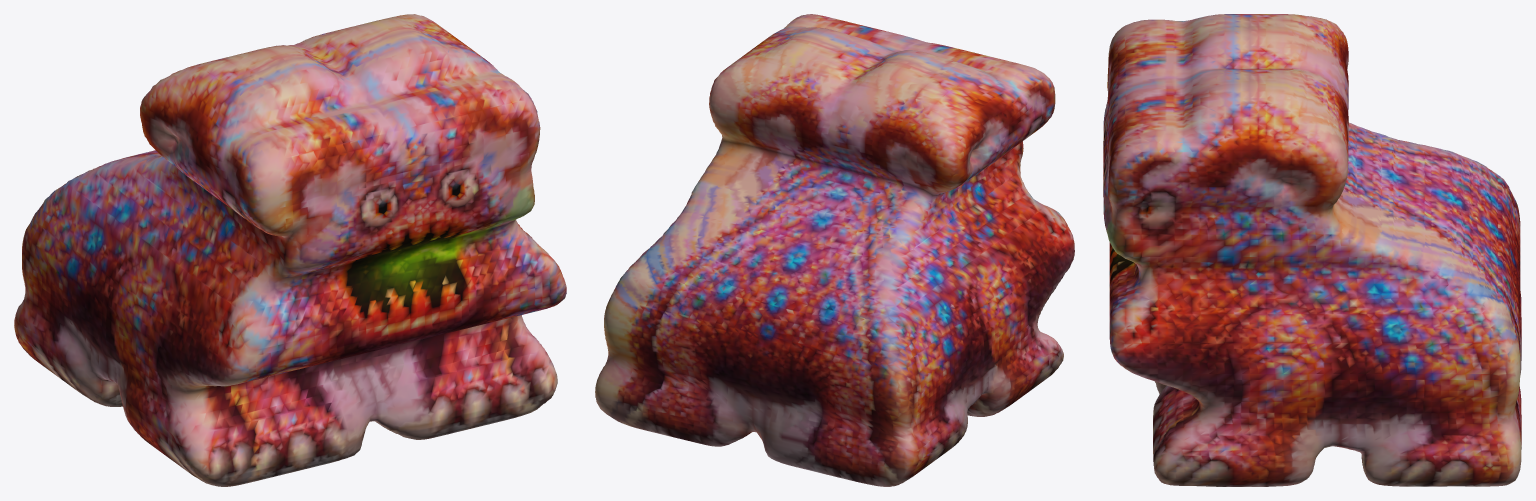
File: 01-gifspuwer-rood.glb
The picture shows the model from 3 angles, left to right: view 1: azimuth 30°, elevation 25°; view 2: azimuth 150°, elevation 25°; view 3: azimuth 270°, elevation 25°; orthographic projection. The views are drawn at different scales.
Parts seen in each view (by area): view 1: 01-gifspuwer-rood-voorkant-zijkant-achterkant; view 2: 01-gifspuwer-rood-voorkant-zijkant-achterkant; view 3: 01-gifspuwer-rood-voorkant-zijkant-achterkant.
Part boxes in pixels (<box>): 01-gifspuwer-rood-voorkant-zijkant-achterkant: <box>14,14,566,486</box>; 01-gifspuwer-rood-voorkant-zijkant-achterkant: <box>595,14,1074,486</box>; 01-gifspuwer-rood-voorkant-zijkant-achterkant: <box>1103,14,1521,486</box>.
Size of the model in its own units: 2.55 by 2.47 by 2.57.
